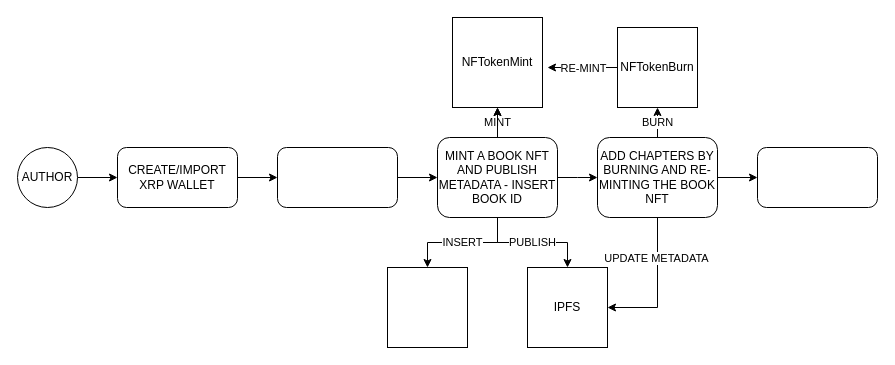
The diagram is 895 pixels wide and 365 high, and some of its shapes have lost their labels. Here are the shapes that lost their labels. From the top down, the centre of each, then its label:
the point at 337,177: CREATE A BOOK
the point at 817,177: RECEIVE XRP FROM BOOK SALES
the point at 427,307: DATABASE
